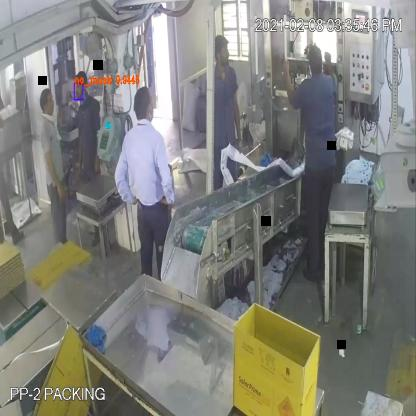no_glove: (150, 145, 176, 211), (230, 82, 252, 160), (110, 146, 134, 213), (44, 138, 66, 211), (280, 51, 299, 113), (324, 43, 339, 100)
